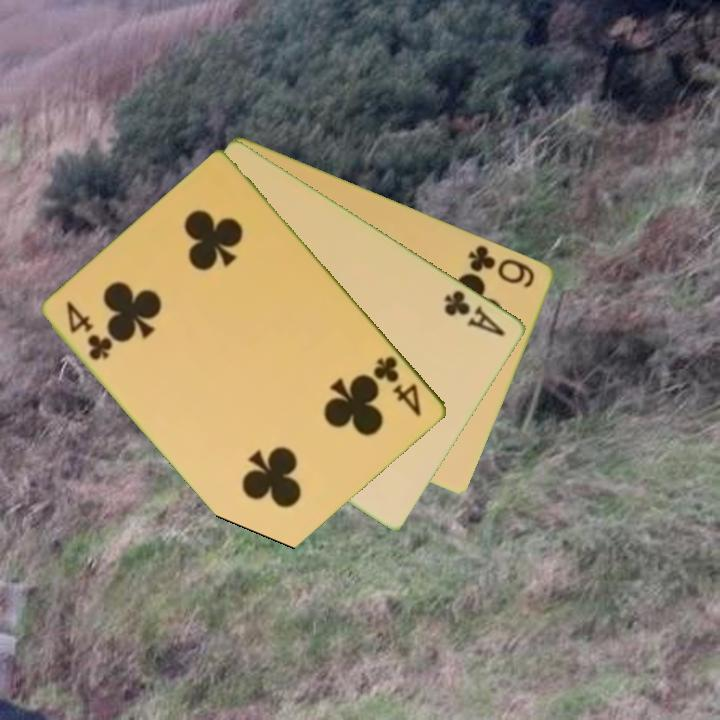4c: (370, 352, 425, 420), (62, 297, 117, 364)
6c: (465, 241, 538, 291)
Ac: (441, 286, 509, 340)
